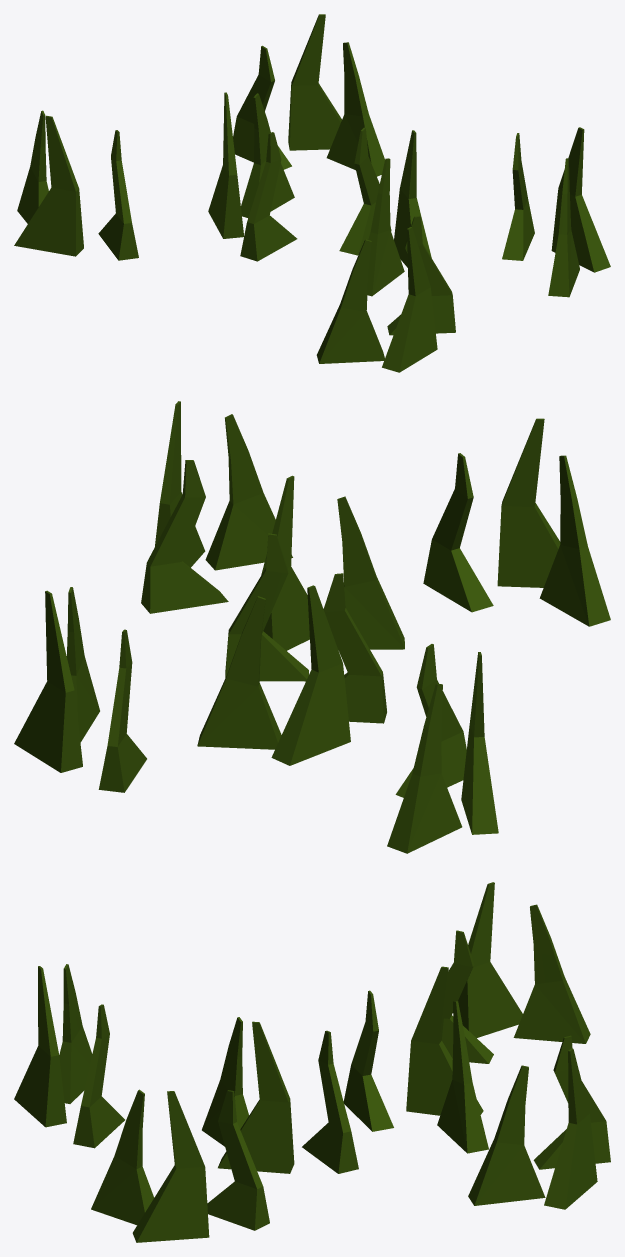
Rendered from rumput.obj.
3 views of the same model, one above another, from view 1: azimuth 30°, elevation 25°; view 2: azimuth 150°, elevation 25°; view 3: azimuth 270°, elevation 25° (orthographic). The views are drawn at different scales.
Visible parts, largest first — view 1: Cube.009_Cube.010, Cube.002, Cube.003, Cube.000, Cube.001, Cube.004; view 2: Cube.000, Cube.009_Cube.010, Cube.001, Cube.004, Cube.003, Cube.002; view 3: Cube.001, Cube.003, Cube.002, Cube.000, Cube.004, Cube.009_Cube.010.
Boxes of the visible parts, bbox=[...] form: Cube.009_Cube.010: bbox=[316, 215, 455, 372]; Cube.002: bbox=[233, 14, 384, 176]; Cube.003: bbox=[14, 110, 138, 260]; Cube.000: bbox=[208, 92, 297, 261]; Cube.001: bbox=[502, 127, 610, 297]; Cube.004: bbox=[339, 127, 431, 296]; Cube.000: bbox=[197, 573, 386, 765]; Cube.009_Cube.010: bbox=[423, 418, 610, 626]; Cube.001: bbox=[141, 401, 292, 613]; Cube.004: bbox=[225, 475, 404, 681]; Cube.003: bbox=[387, 644, 498, 853]; Cube.002: bbox=[14, 587, 146, 792]; Cube.001: bbox=[91, 1089, 269, 1242]; Cube.003: bbox=[441, 882, 590, 1063]; Cube.002: bbox=[468, 1035, 610, 1209]; Cube.000: bbox=[343, 966, 488, 1153]; Cube.004: bbox=[202, 1017, 358, 1173]; Cube.009_Cube.010: bbox=[14, 964, 124, 1148].
Size of the model in its own units: 1.08 by 0.3159 by 1.19.
